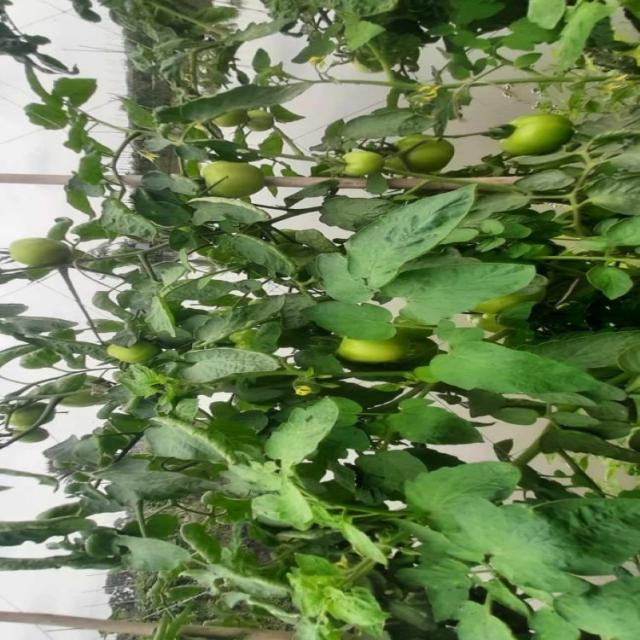tomato: (491, 109, 573, 158), (197, 154, 267, 194), (13, 231, 80, 272), (336, 328, 402, 369), (390, 135, 456, 175), (13, 398, 57, 441), (105, 331, 158, 363), (341, 144, 388, 179), (243, 108, 279, 133), (83, 529, 112, 560), (213, 108, 248, 128)
